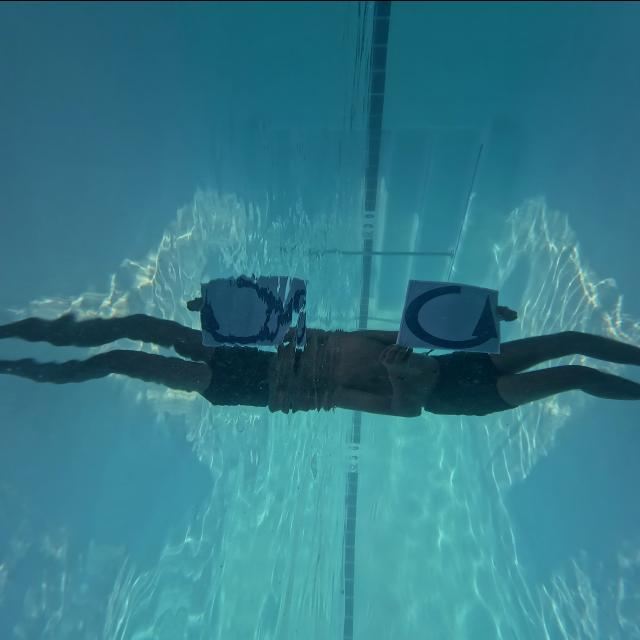blue_side: (387, 277, 512, 355)
